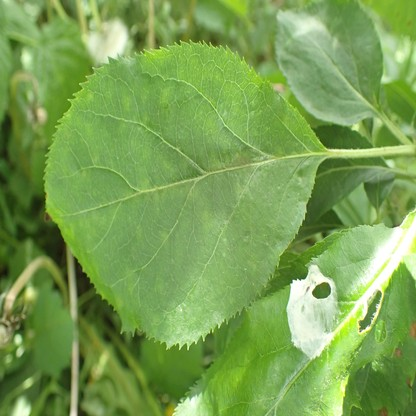frogeye_leaf_spot: (410, 321, 416, 338), (378, 407, 388, 416), (393, 347, 402, 357), (407, 376, 411, 386)
scab: (48, 203, 75, 241), (209, 153, 251, 172), (202, 208, 227, 230), (124, 267, 137, 295), (135, 226, 144, 244), (161, 232, 169, 252), (155, 278, 165, 294), (153, 191, 160, 210), (117, 297, 124, 308)
